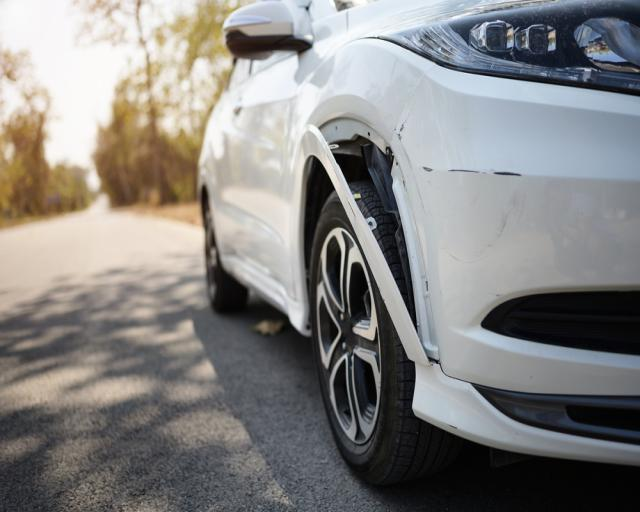scratch: (420, 163, 529, 259)
